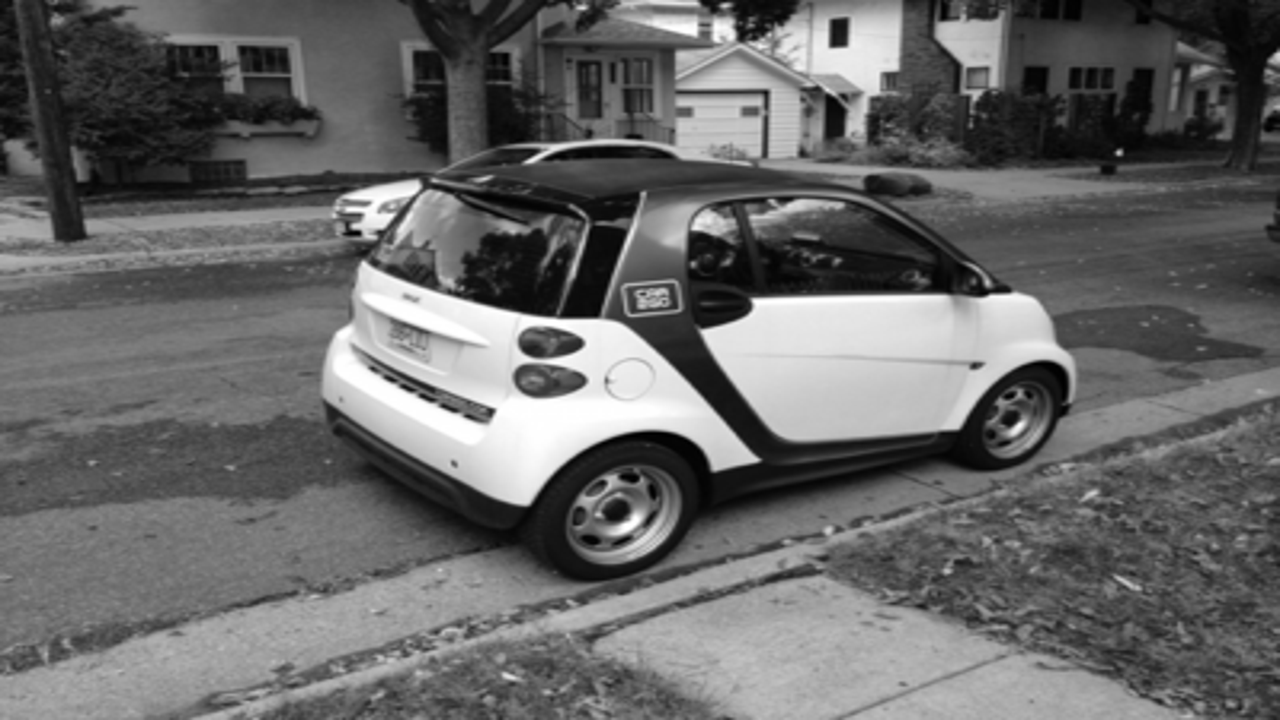license: (374, 307, 449, 378)
